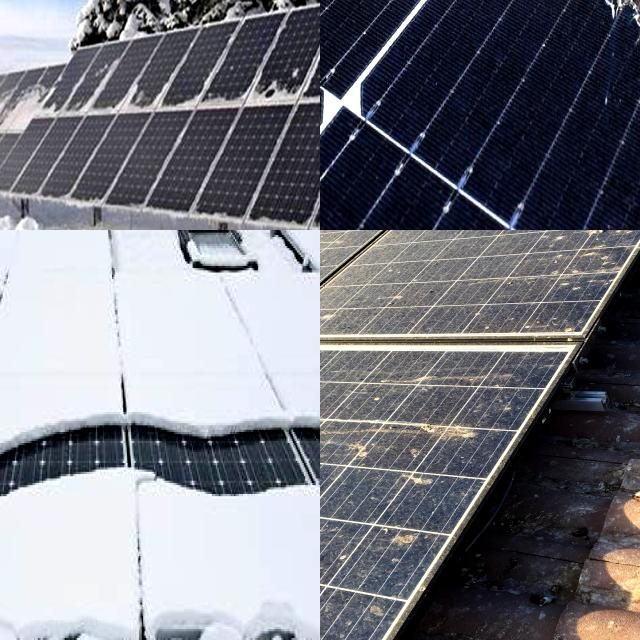bird: (390, 408, 507, 450), (354, 520, 456, 559), (579, 230, 631, 279), (320, 428, 383, 467), (320, 592, 363, 638)
panel: (61, 230, 229, 452), (145, 474, 320, 640), (0, 492, 140, 640), (248, 230, 320, 453), (0, 230, 64, 453), (0, 230, 56, 474), (0, 468, 76, 640), (82, 55, 150, 115), (1, 69, 54, 131), (0, 80, 47, 137), (246, 69, 312, 108), (0, 138, 22, 183), (266, 80, 297, 86)
